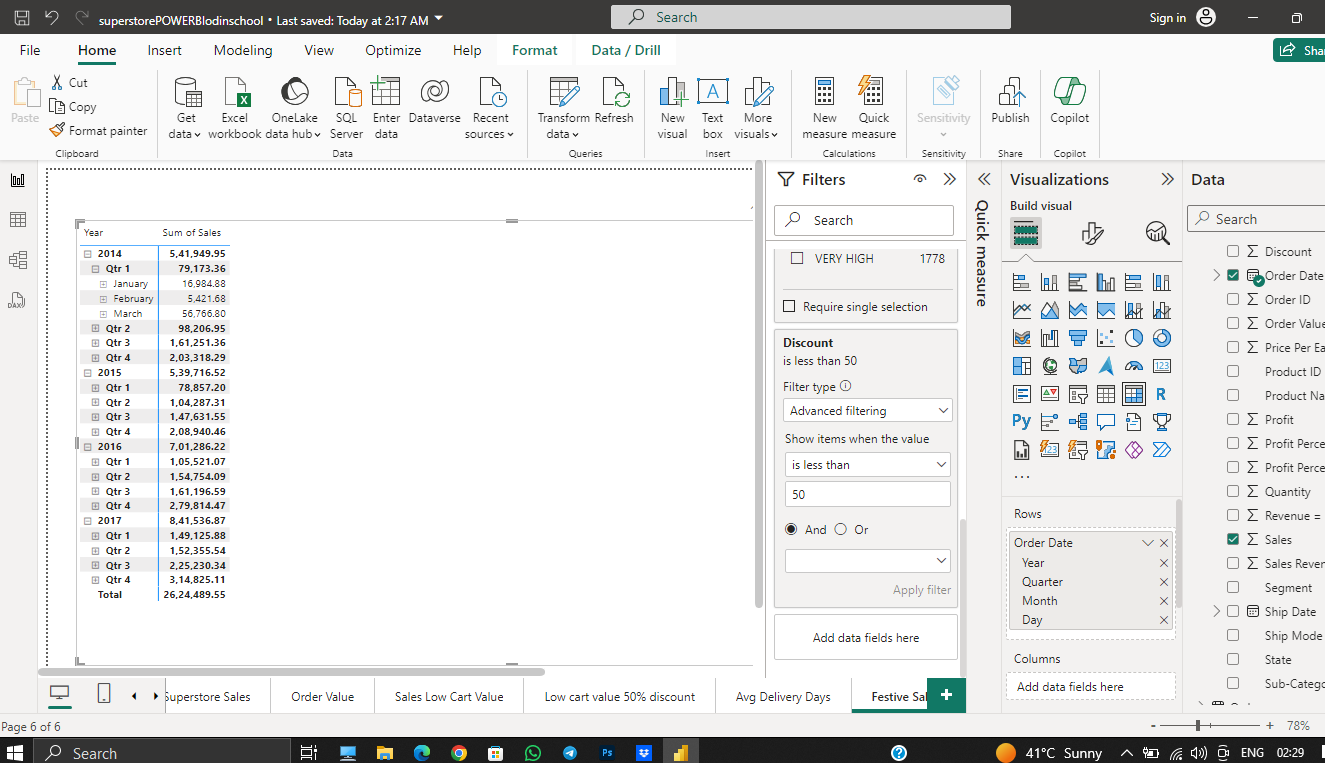

This screenshot's page, from the dashboard's own definition file:
{"tool":"powerbi","page":{"name":"Festive Sales","canvas":[1280,720],"ordinal":5},"visuals":[{"type":"pivotTable","fields":{"Rows":["AVG Delivery Days.Order Date.Variation.Date Hierarchy.Year","AVG Delivery Days.Order Date.Variation.Date Hierarchy.Quarter","AVG Delivery Days.Order Date.Variation.Date Hierarchy.Month","AVG Delivery Days.Order Date.Variation.Date Hierarchy.Day"],"Values":["Sum(AVG Delivery Days.Sales)"]},"box":[35.9,64.1,1116.7,571.8],"z":0}]}

Visuals, with their boxes on the page's 1280x720 design canvas (x1, y1, x2, y2). These are canvas units, not pixel positions in the 1325x763 screenshot, which may show the page scaled, cropped or inside an application window:
pivotTable - AVG Delivery Days.Order Date.Variation.Date Hierarchy.Year x AVG Delivery Days.Order Date.Variation.Date Hierarchy.Quarter: Rect(36, 64, 1153, 636)
